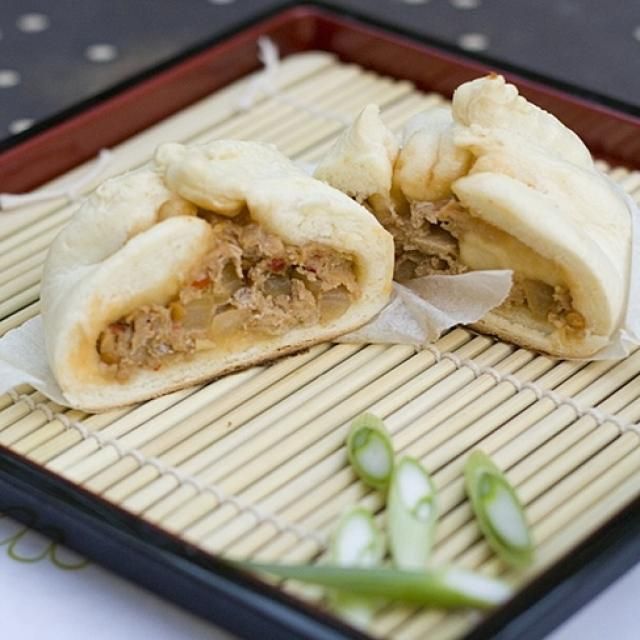带馅早点: (5, 26, 618, 636)
